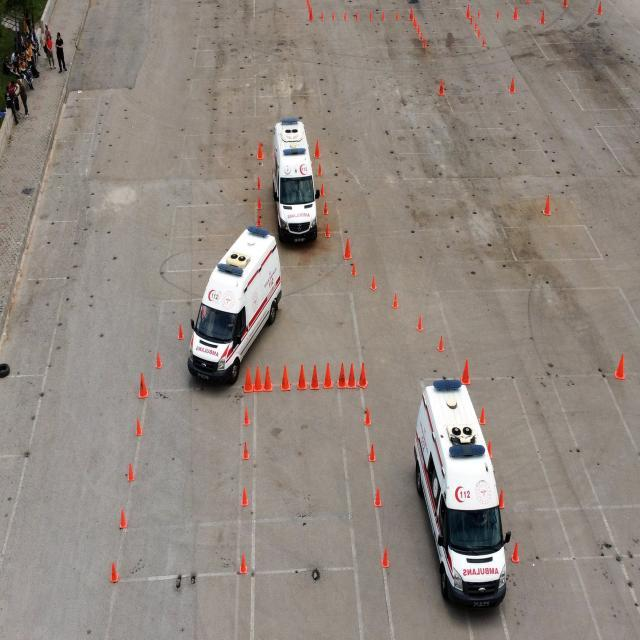emergency-vehicle: (402, 368, 528, 624), (181, 221, 293, 402), (264, 118, 332, 248)
